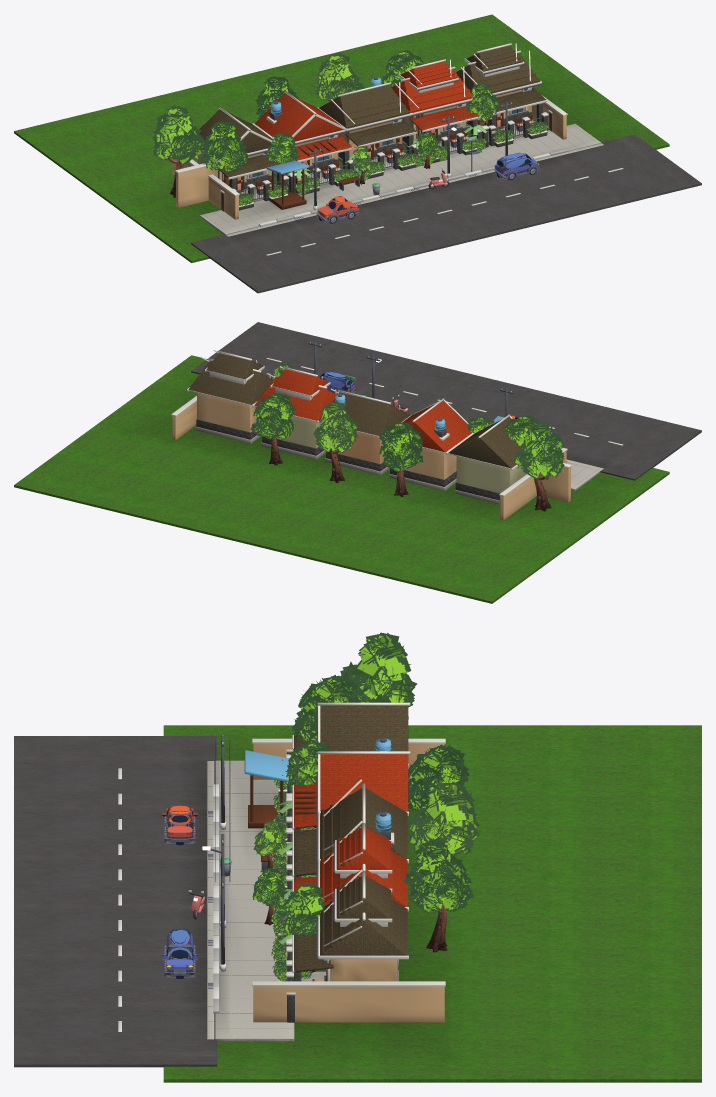
File: kampung_street.glb
The picture shows the model from 3 angles, top to bottom: view 1: azimuth 30°, elevation 25°; view 2: azimuth 150°, elevation 25°; view 3: azimuth 270°, elevation 25°; orthographic projection. The views are drawn at different scales.
Parts seen in each view (by area): view 1: Ground_Lawn, Road_Asphalt, Sidewalk_Paving, CommonTree_2_inst, House_0_Roof, House_1_Roof, CommonTree_1_inst, CommonTree_2_inst.003, PerimeterWall_FarL, House_2_Roof, House_3_Roof, House_-1_Roof (+18 smaller); view 2: Ground_Lawn, Road_Asphalt, CommonTree_2_inst, CommonTree_1_inst.003, CommonTree_2_inst.003, House_-1_Roof, CommonTree_1_inst.004, House_0_Roof, House_1_Roof, House_3_Roof, House_-1_Body, House_3_Body (+14 smaller); view 3: Ground_Lawn, Road_Asphalt, Sidewalk_Paving, PerimeterWall_R, House_0_Roof, CommonTree_1_inst.004, House_-1_Roof, CommonTree_2_inst, CommonTree_2_inst.003, House_3_Roof, House_1_Roof, CommonTree_1_inst.003 (+18 smaller).
Part boxes in pixels (box(x1,y1,x2,y2)): Ground_Lawn: box(14, 14, 669, 262); Road_Asphalt: box(191, 134, 701, 293); Sidewalk_Paving: box(199, 123, 600, 234); CommonTree_2_inst: box(152, 105, 204, 197); House_0_Roof: box(254, 93, 343, 141); House_1_Roof: box(319, 85, 409, 128); CommonTree_1_inst: box(201, 121, 249, 186); CommonTree_2_inst.003: box(315, 52, 365, 101); PerimeterWall_FarL: box(176, 167, 217, 207); House_2_Roof: box(391, 69, 473, 112); House_3_Roof: box(456, 53, 540, 93); House_-1_Roof: box(199, 109, 272, 153); Ground_Lawn: box(14, 355, 669, 603); Road_Asphalt: box(191, 322, 701, 480); CommonTree_2_inst: box(514, 422, 564, 511); CommonTree_1_inst.003: box(379, 422, 423, 496); CommonTree_2_inst.003: box(313, 401, 358, 482); House_-1_Roof: box(448, 417, 522, 468); CommonTree_1_inst.004: box(250, 393, 295, 465); House_0_Roof: box(402, 401, 471, 452); House_1_Roof: box(319, 392, 409, 436); House_3_Roof: box(188, 360, 272, 404); House_-1_Body: box(456, 456, 526, 493); House_3_Body: box(197, 393, 256, 432); Ground_Lawn: box(163, 725, 701, 1082); Road_Asphalt: box(14, 736, 217, 1067); Sidewalk_Paving: box(215, 760, 294, 1041); PerimeterWall_R: box(253, 986, 444, 1022); House_0_Roof: box(320, 754, 408, 811); CommonTree_1_inst.004: box(403, 841, 473, 952); House_-1_Roof: box(320, 705, 408, 751); CommonTree_2_inst: box(339, 632, 417, 707); CommonTree_2_inst.003: box(407, 781, 479, 856); House_3_Roof: box(320, 899, 407, 955); House_1_Roof: box(320, 788, 407, 859); CommonTree_1_inst.003: box(408, 744, 469, 810).
Bounding box in the file's own units: 28 × 4.94 × 23.
Materials: 53 (36 with a texture image).
